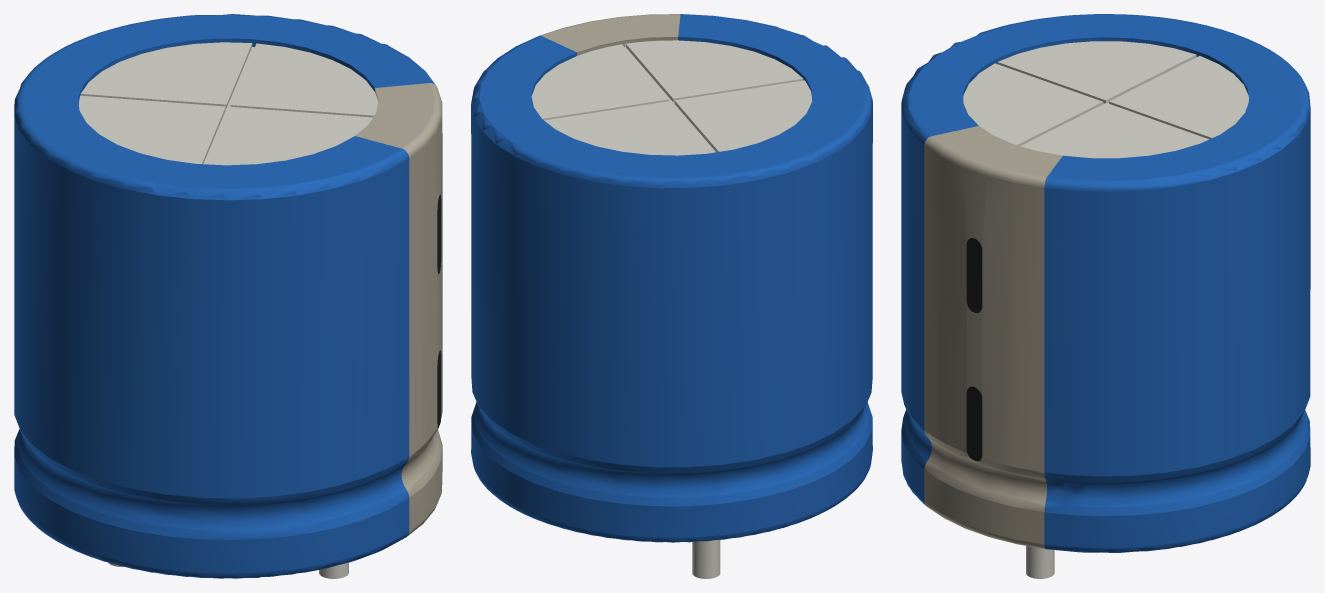
File: kc-cp_radial_d10.0mm_p2.50mm_p5.00mm.glb
3 views of the same model, side by side, from view 1: azimuth 30°, elevation 25°; view 2: azimuth 150°, elevation 25°; view 3: azimuth 270°, elevation 25° (orthographic). The views are drawn at different scales.
Parts seen in each view (by area): view 1: 0_0.16666666666666666_0.5_0, 0.6666666666666666_0.6666666666666666_0.5833333333333334_0.8, 0.4166666666666667_0.4166666666666667_0.3333333333333333_0, 0_0_0_0; view 2: 0_0.16666666666666666_0.5_0, 0.6666666666666666_0.6666666666666666_0.5833333333333334_0.8, 0.4166666666666667_0.4166666666666667_0.3333333333333333_0; view 3: 0_0.16666666666666666_0.5_0, 0.4166666666666667_0.4166666666666667_0.3333333333333333_0, 0.6666666666666666_0.6666666666666666_0.5833333333333334_0.8, 0_0_0_0.
Part boxes in pixels (x1=…): 0_0.16666666666666666_0.5_0: x1=14, y1=14, x2=435, y2=578; 0.6666666666666666_0.6666666666666666_0.5833333333333334_0.8: x1=79, y1=42, x2=377, y2=578; 0.4166666666666667_0.4166666666666667_0.3333333333333333_0: x1=355, y1=83, x2=442, y2=535; 0_0_0_0: x1=437, y1=194, x2=441, y2=428; 0_0.16666666666666666_0.5_0: x1=471, y1=14, x2=872, y2=542; 0.6666666666666666_0.6666666666666666_0.5833333333333334_0.8: x1=531, y1=40, x2=811, y2=578; 0.4166666666666667_0.4166666666666667_0.3333333333333333_0: x1=540, y1=14, x2=680, y2=55; 0_0.16666666666666666_0.5_0: x1=901, y1=14, x2=1310, y2=552; 0.4166666666666667_0.4166666666666667_0.3333333333333333_0: x1=924, y1=126, x2=1062, y2=548; 0.6666666666666666_0.6666666666666666_0.5833333333333334_0.8: x1=963, y1=41, x2=1248, y2=578; 0_0_0_0: x1=966, y1=238, x2=982, y2=461.
Bounding box in the file's own units: 0.9991 × 1.2 × 0.9995.
